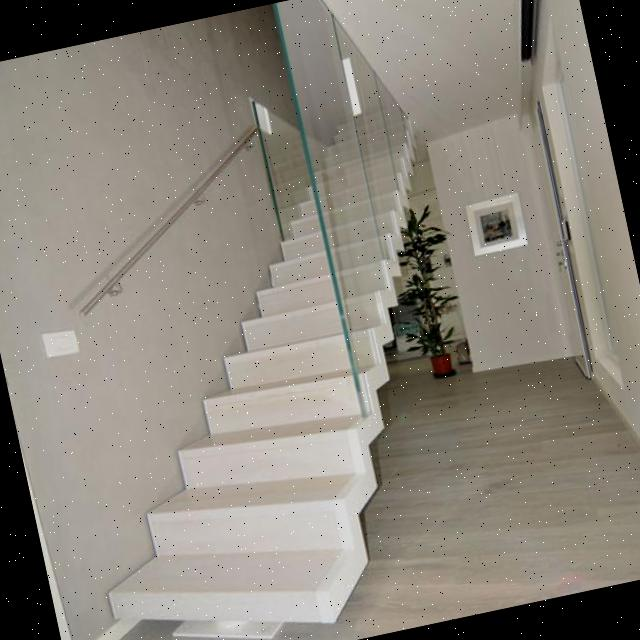stairs: (16, 96, 513, 640)
